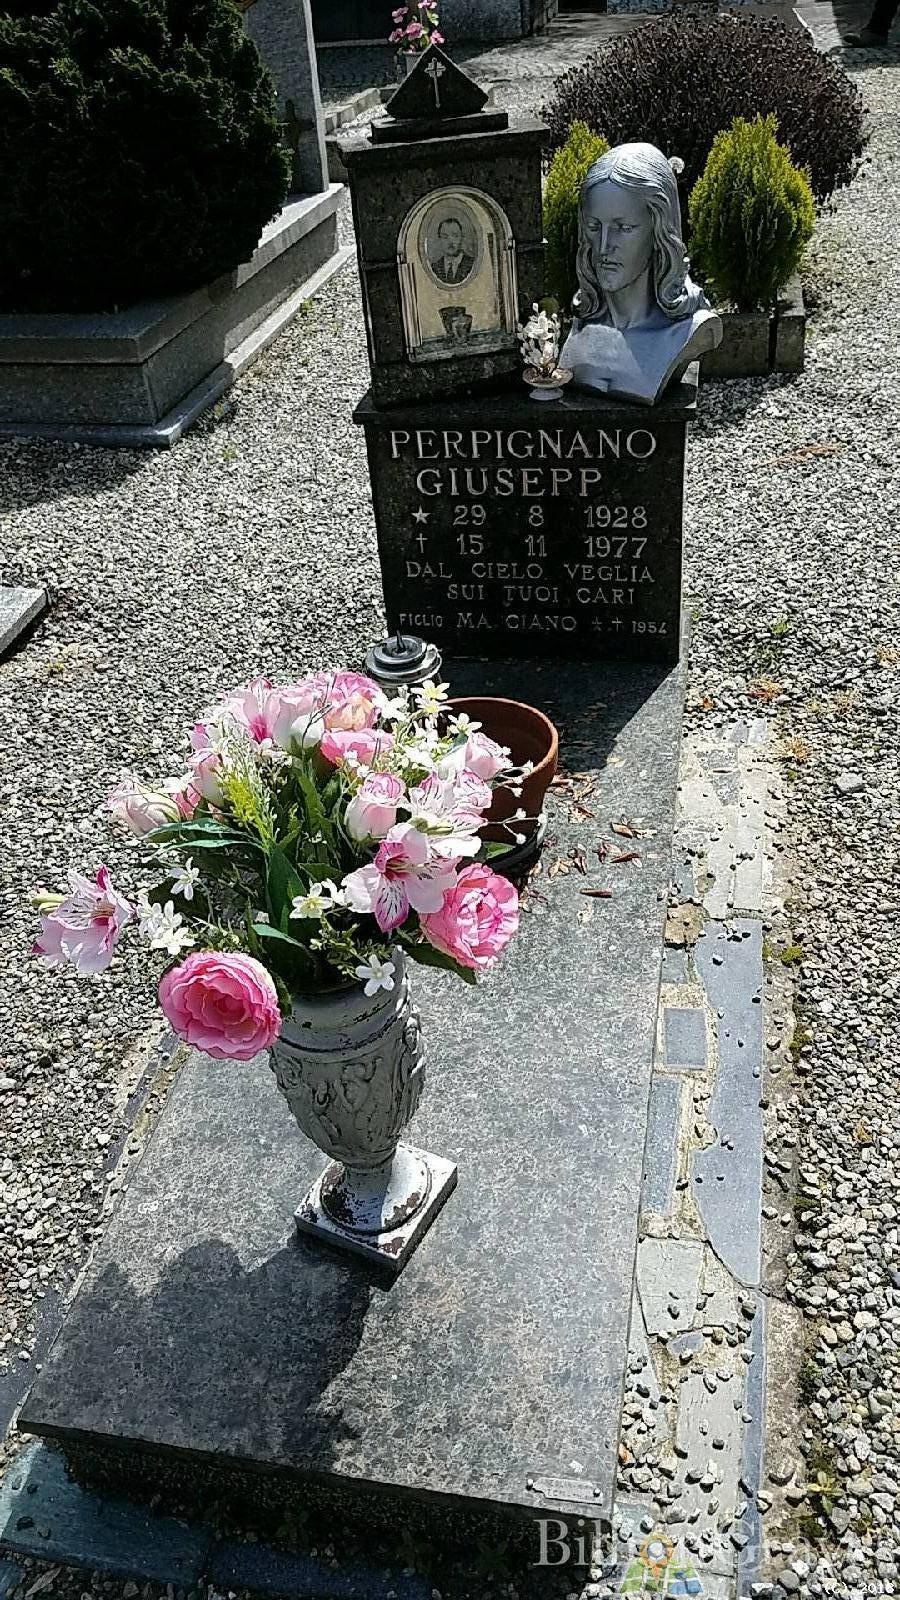vault: (0, 48, 779, 1580)
